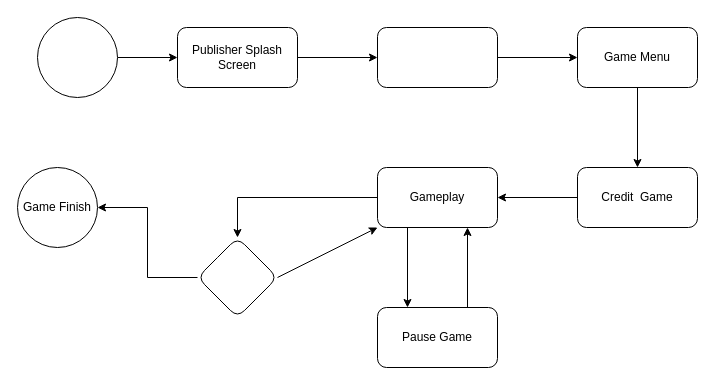
Some shapes in this 715 by 385 pixel diagram are drawn without their labels. Each missing label, with the centre of its shape:
Developers Splash Screen: [437,57]
Start: [77,57]
Win/Lose Retry/Quit: [237,277]
